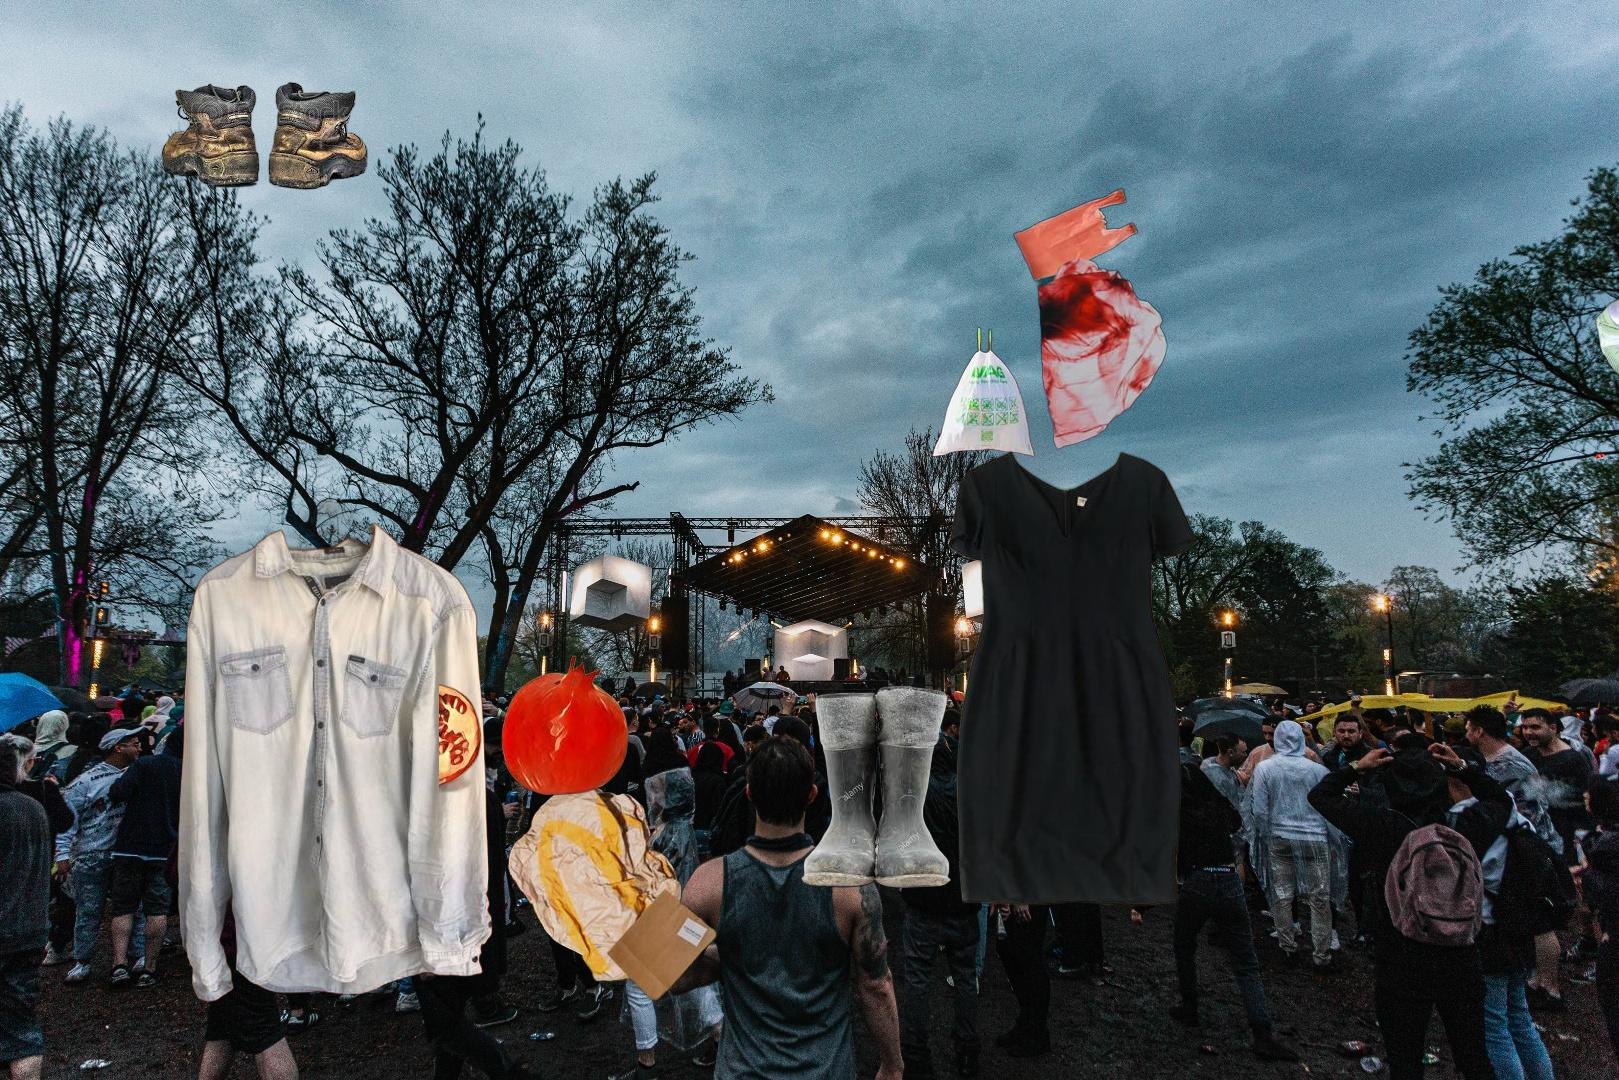biological: (439, 655, 630, 798)
clothes: (174, 488, 495, 1006), (944, 447, 1201, 910)
metal-cans: (1591, 284, 1619, 633)
paper-bag: (505, 771, 720, 1004)
plastic-bag: (929, 184, 1171, 460)
shoes: (798, 683, 954, 891), (159, 80, 370, 192)
